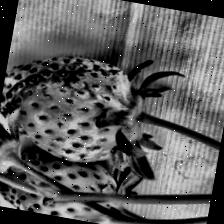Powdery Mildew Fruit: (0, 45, 139, 170)
